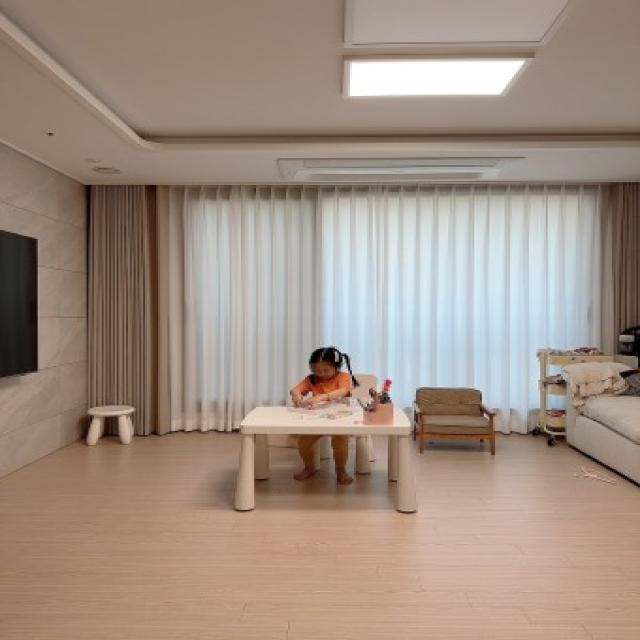Table: (232, 408, 434, 522)
tv: (10, 230, 44, 376)
